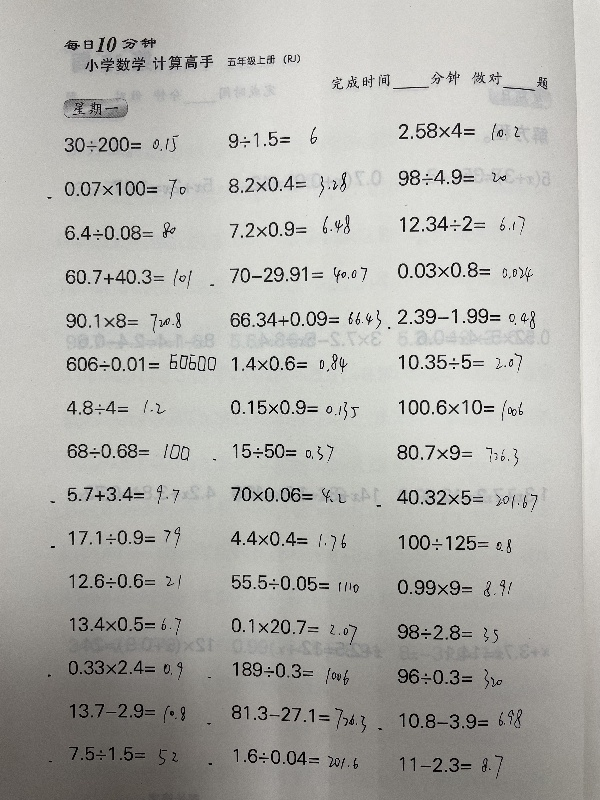equation: (229, 701, 369, 739), (63, 350, 220, 382), (228, 614, 358, 651), (214, 122, 341, 156), (228, 745, 363, 776), (226, 306, 385, 332), (393, 751, 510, 786), (394, 118, 523, 149), (392, 484, 540, 511), (393, 662, 506, 697), (223, 170, 350, 201), (393, 303, 538, 330), (65, 739, 180, 773), (392, 256, 535, 283), (65, 655, 189, 686), (395, 395, 527, 424), (230, 658, 352, 689), (60, 261, 194, 289), (399, 707, 528, 736), (224, 214, 357, 242), (65, 612, 185, 643), (394, 349, 526, 377), (66, 698, 187, 728), (392, 573, 516, 602), (396, 211, 529, 238), (225, 394, 361, 420), (225, 262, 371, 286), (64, 522, 184, 551), (66, 568, 186, 597), (391, 620, 503, 651), (223, 353, 354, 379), (60, 175, 190, 201), (392, 439, 521, 465), (392, 165, 511, 193), (61, 308, 184, 335), (226, 570, 361, 594), (226, 481, 359, 505), (60, 130, 182, 156), (61, 438, 192, 462), (63, 480, 183, 506), (225, 526, 349, 551), (227, 438, 336, 466), (393, 529, 514, 554), (59, 218, 178, 243), (62, 398, 171, 420)
